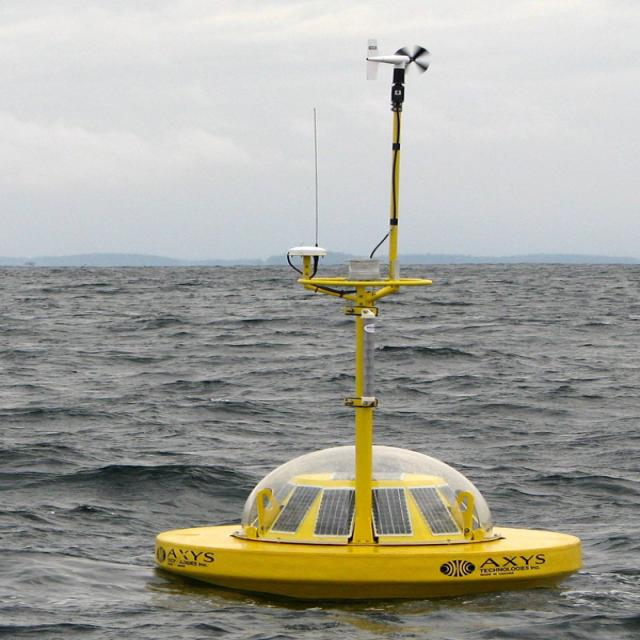buoy: (149, 230, 585, 593)
